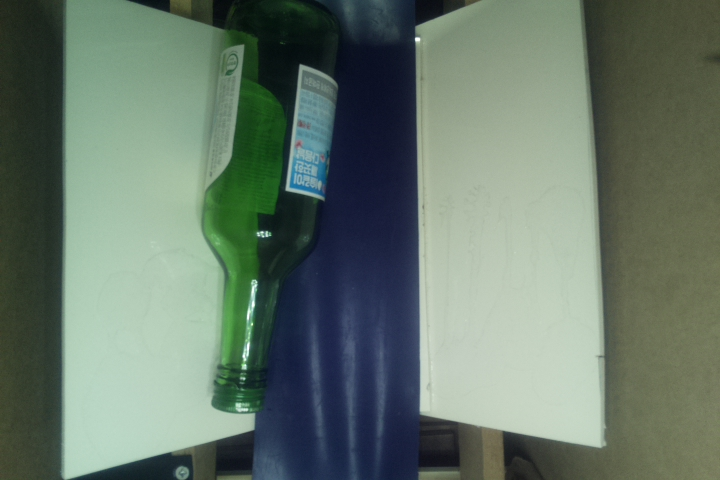soju: (199, 1, 345, 416)
